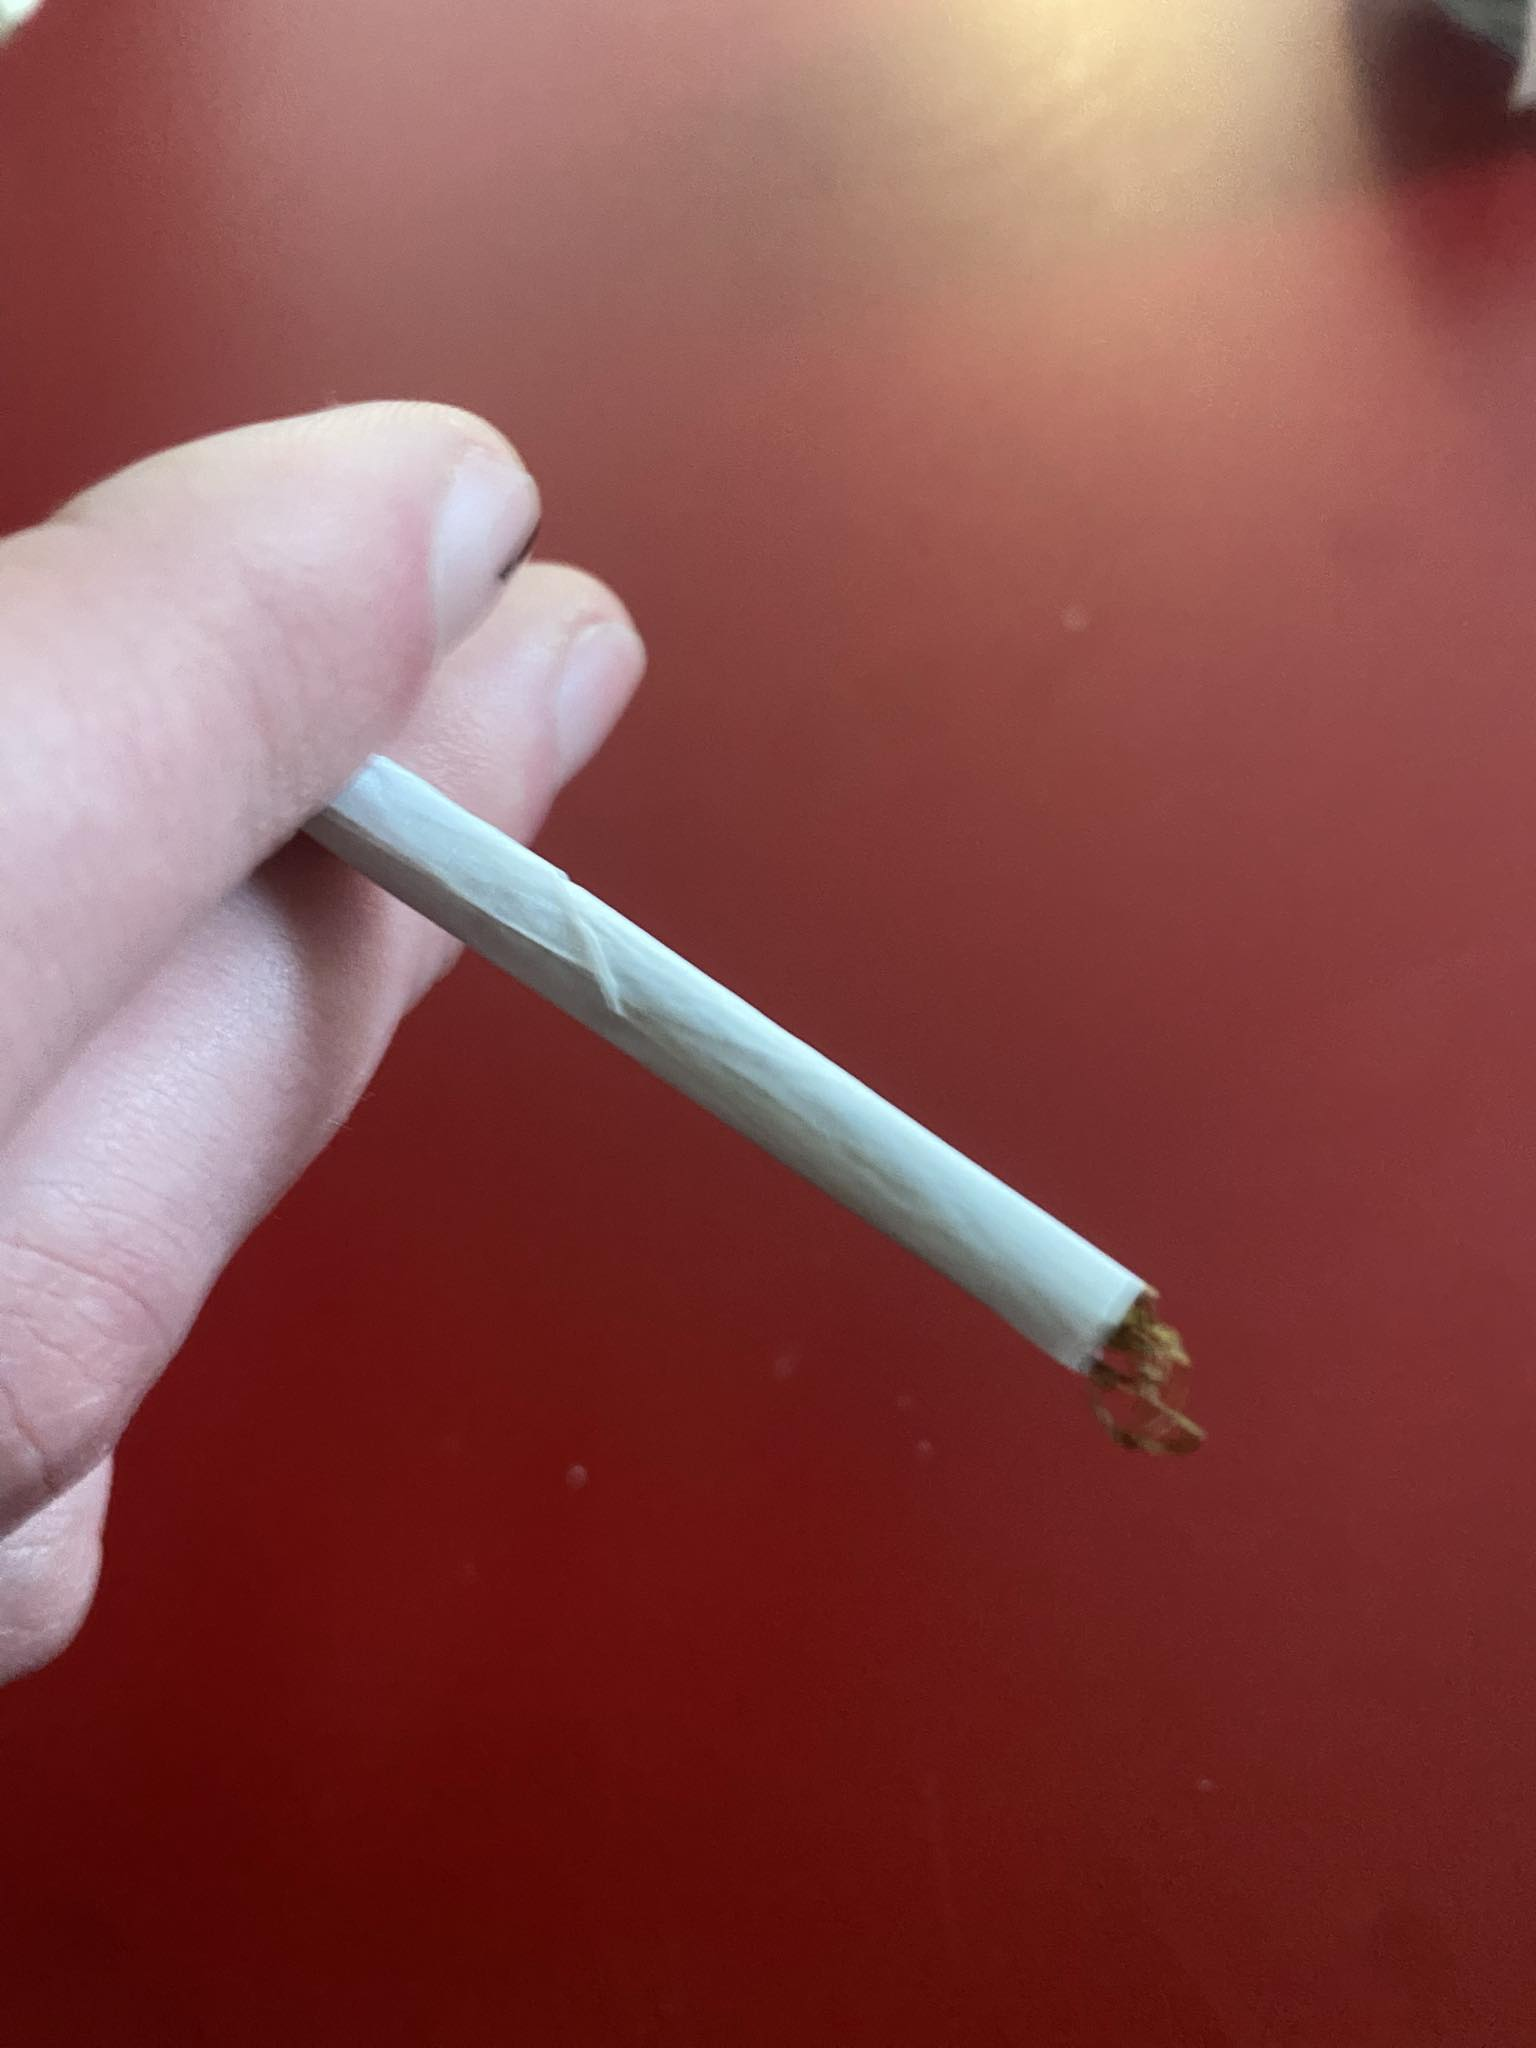Cigarette: (358, 751, 1221, 1456)
